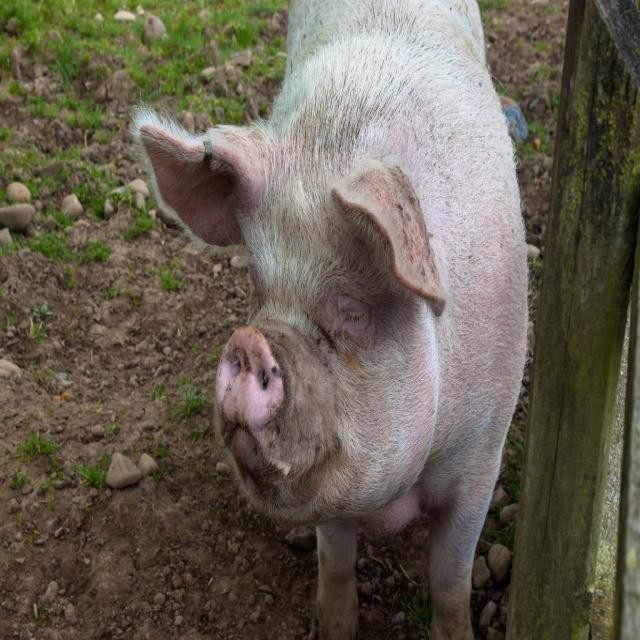Pig: (128, 0, 534, 639)
